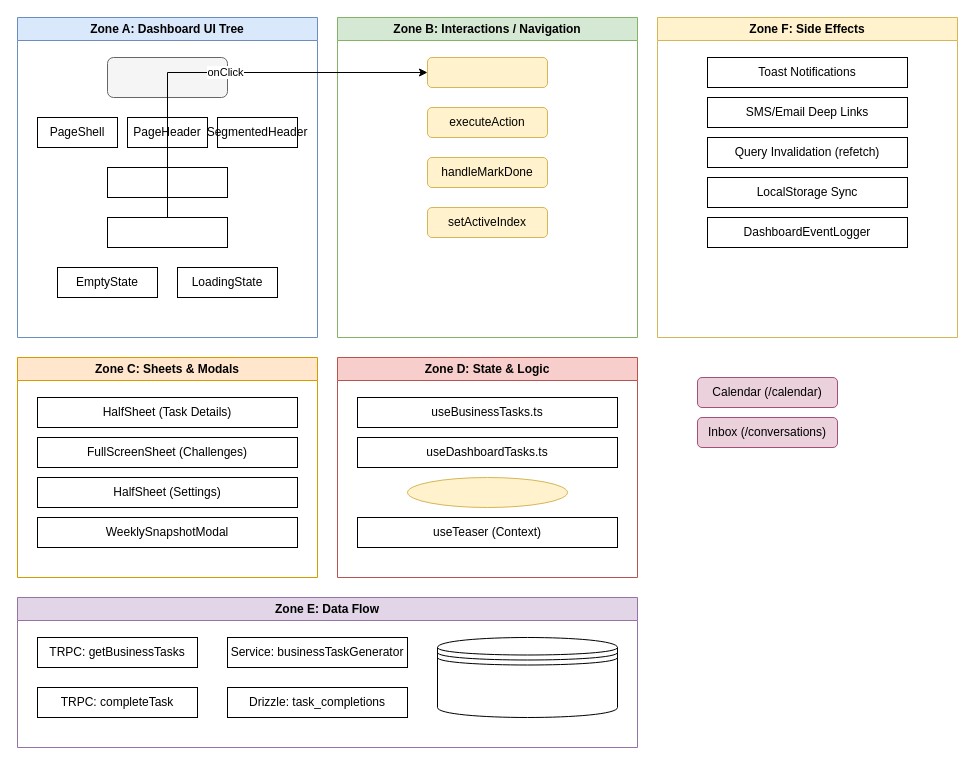
The diagram is 975 pixels wide and 765 high, and some of its shapes have lost their labels. The centre of each missing label's shape, as x and y in pixels:
activeCategory (Derived): the point at 487,492
Dashboard.tsx (Page Entry): the point at 167,77
Drizzle: active_tasks, leads, etc.: the point at 527,677
GlassSheet: the point at 167,182
handleTaskClick: the point at 487,72
TaskCard (List): the point at 167,232
